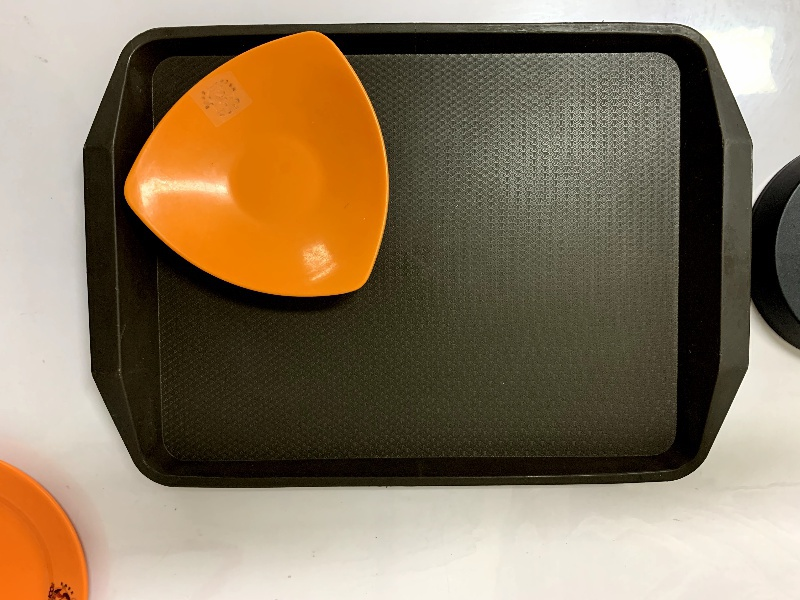dish11: (116, 27, 395, 304)
